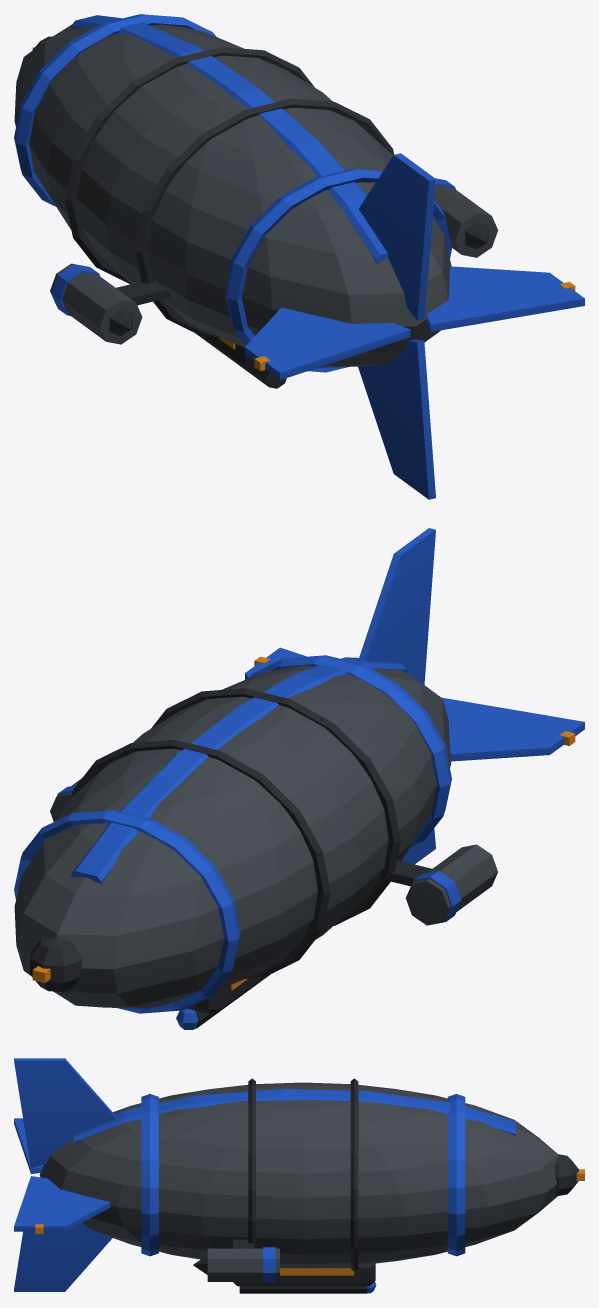
The model's file is hornet.glb.
3 renders of one model, top to bottom at view 1: azimuth 30°, elevation 25°; view 2: azimuth 150°, elevation 25°; view 3: azimuth 270°, elevation 25°, orthographic. The views are drawn at different scales.
Visible parts, largest first — view 1: hull; view 2: hull; view 3: hull.
Part boxes in pixels (<box>): hull: <box>14,14,584,499</box>; hull: <box>14,528,584,1029</box>; hull: <box>14,1058,584,1293</box>.
Size of the model in its own units: 0.79 by 0.607 by 1.34.
